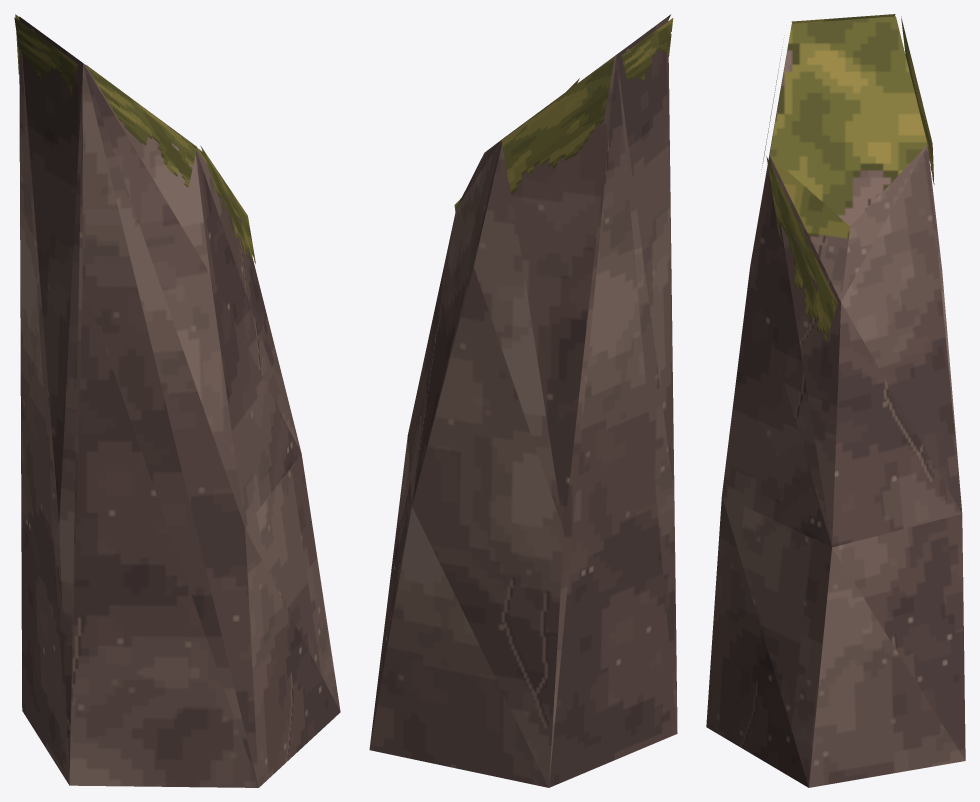
The model's file is SM_RK05_StoneTall.fbx.
The picture shows the model from 3 angles, left to right: view 1: azimuth 30°, elevation 25°; view 2: azimuth 150°, elevation 25°; view 3: azimuth 270°, elevation 25°; orthographic projection. The views are drawn at different scales.
Parts seen in each view (by area): view 1: RK05_Rock, RK05_Moss; view 2: RK05_Rock, RK05_Moss; view 3: RK05_Rock, RK05_RockTop, RK05_Moss.
Part boxes in pixels (bbox=[...]): RK05_Rock: bbox=[19, 16, 340, 787]; RK05_Moss: bbox=[14, 14, 255, 263]; RK05_Rock: bbox=[369, 17, 677, 787]; RK05_Moss: bbox=[454, 14, 673, 211]; RK05_Rock: bbox=[706, 56, 965, 787]; RK05_RockTop: bbox=[769, 16, 927, 301]; RK05_Moss: bbox=[761, 14, 934, 342].
Size of the model in its own units: 0.9 by 2.22 by 0.8.
